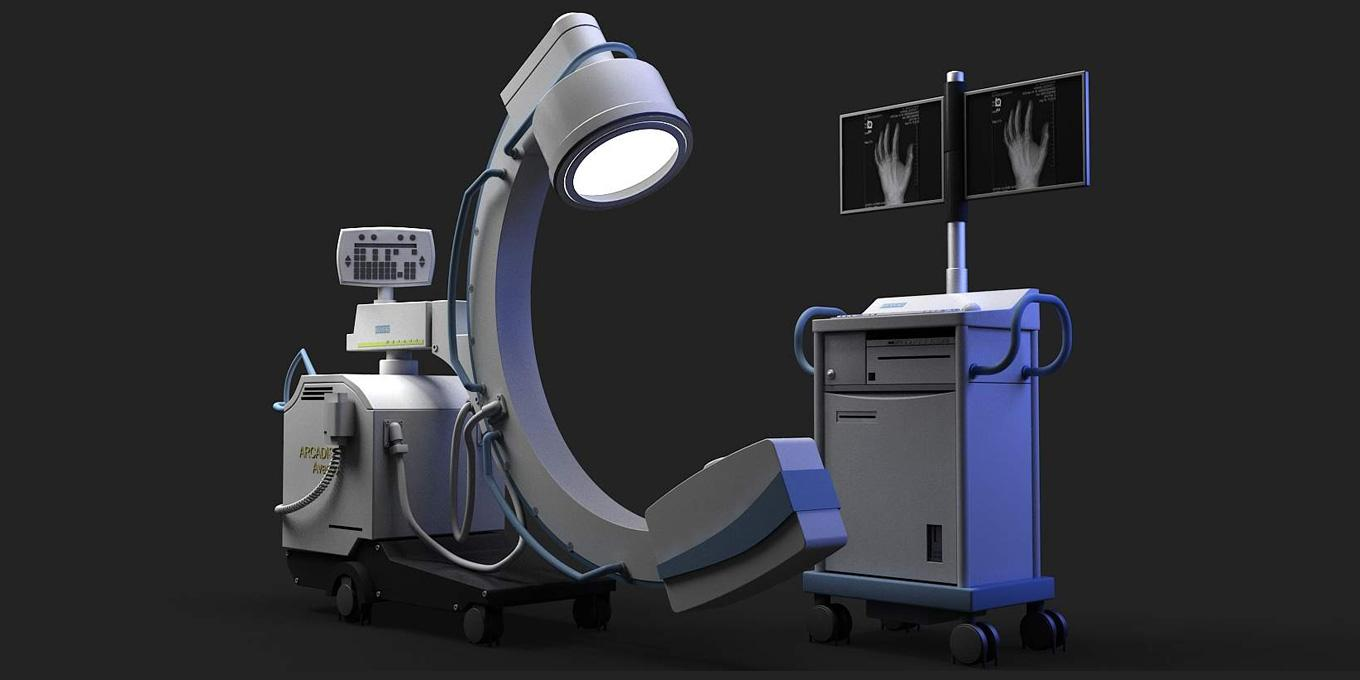C_arm: (272, 14, 847, 651)
